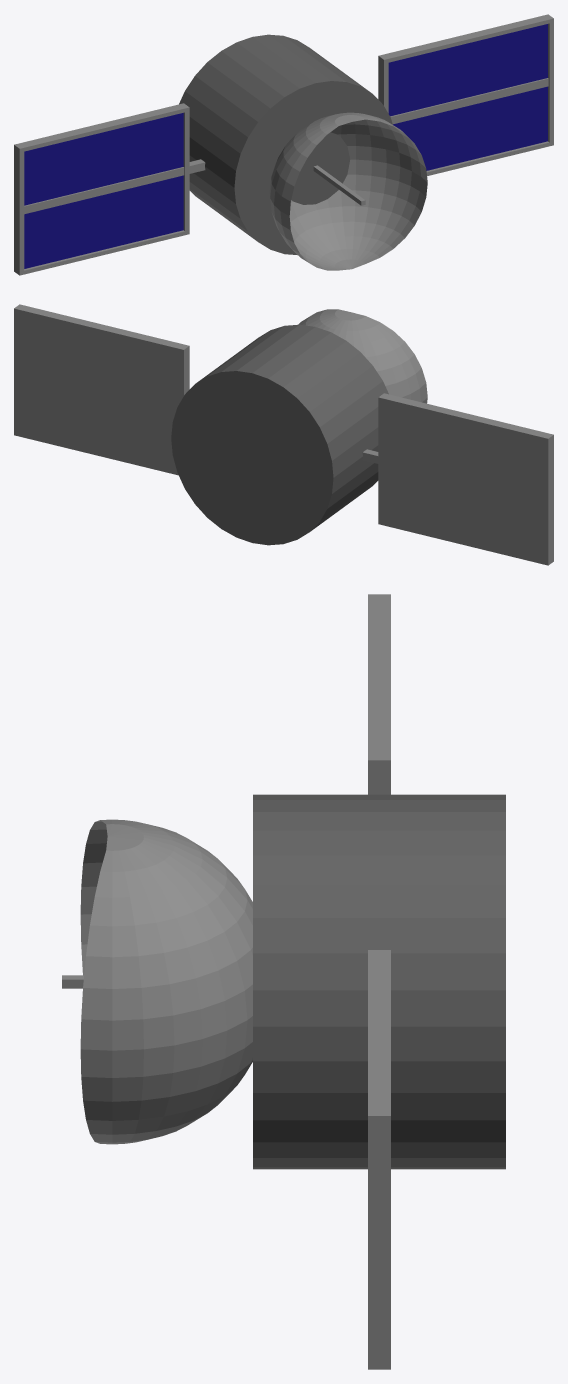
File: Satelite.fbx
3 renders of one model, top to bottom at view 1: azimuth 30°, elevation 25°; view 2: azimuth 150°, elevation 25°; view 3: azimuth 270°, elevation 25°, orthographic. The views are drawn at different scales.
Visible parts, largest first — view 1: Cube.001, Cylinder, Sphere, Cube; view 2: Cube.001, Cylinder, Sphere; view 3: Cylinder, Sphere, Cube.001.
Part boxes in pixels (<box>): Cube.001: <box>14,14,553,275</box>; Cylinder: <box>179,34,392,255</box>; Sphere: <box>269,112,427,270</box>; Cube: <box>313,165,365,205</box>; Cube.001: <box>14,304,553,565</box>; Cylinder: <box>171,324,388,545</box>; Sphere: <box>298,309,427,403</box>; Cylinder: <box>253,794,505,1169</box>; Sphere: <box>80,819,252,1144</box>; Cube.001: <box>368,594,390,1369</box>.
Bounding box in the file's own units: 429 × 130 × 154.
